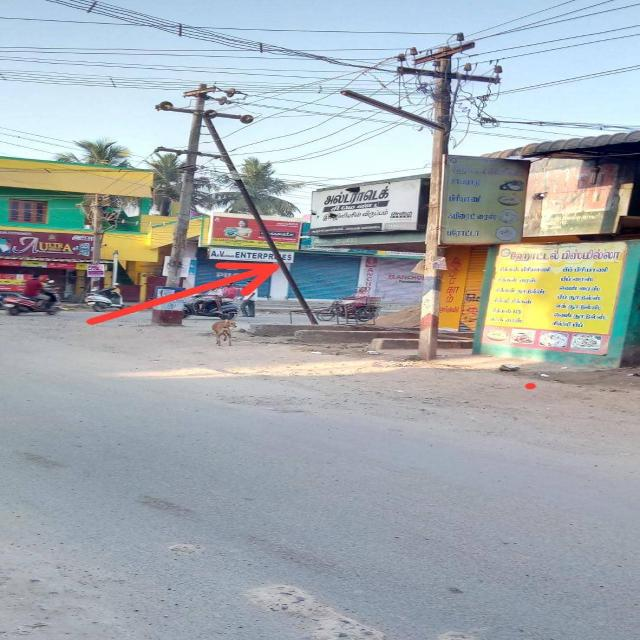light_pole: (393, 32, 511, 146), (152, 80, 268, 168)
